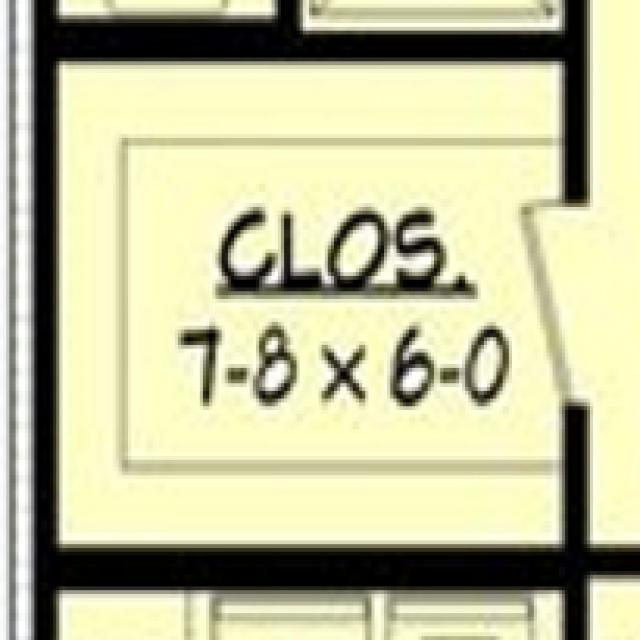Doors: (513, 197, 600, 418)
